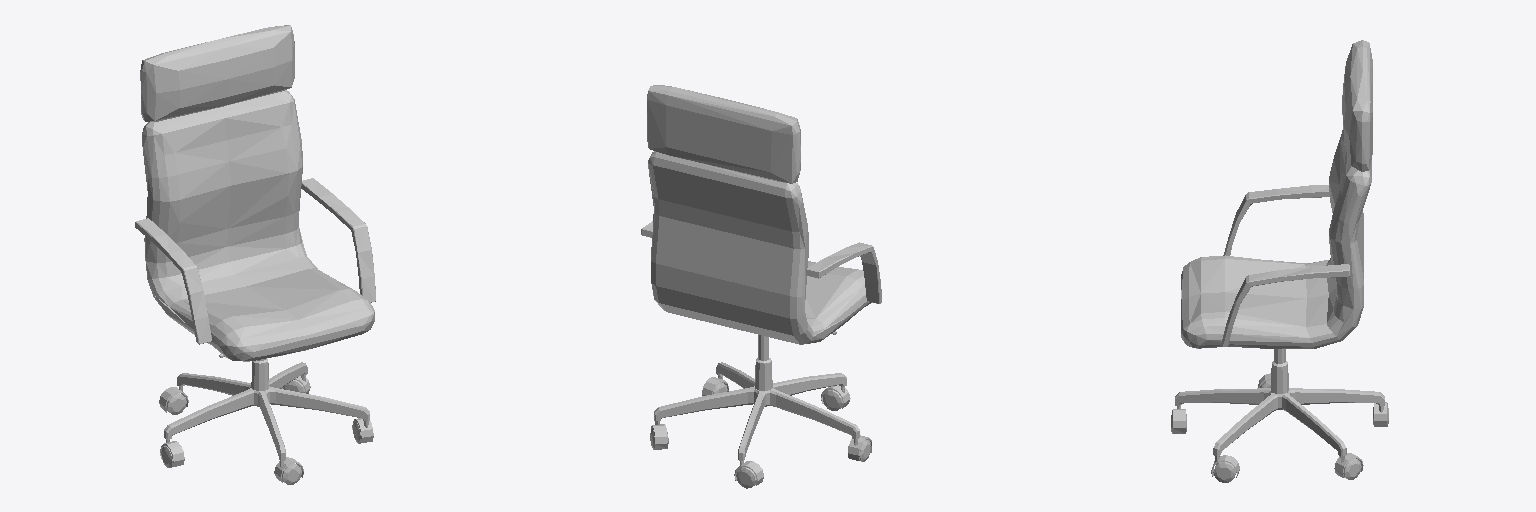
File: chair.obj
The picture shows the model from 3 angles: view 1: azimuth 30°, elevation 25°; view 2: azimuth 150°, elevation 25°; view 3: azimuth 270°, elevation 25°; orthographic projection.
Visible parts, largest first — view 1: chair; view 2: chair; view 3: chair.
Part boxes in pixels (left/top/right/bottom): chair: left=135, top=25, right=375, bottom=484; chair: left=641, top=85, right=881, bottom=488; chair: left=1171, top=40, right=1388, bottom=482.
Size of the model in its own units: 24.17 by 45.17 by 24.05.